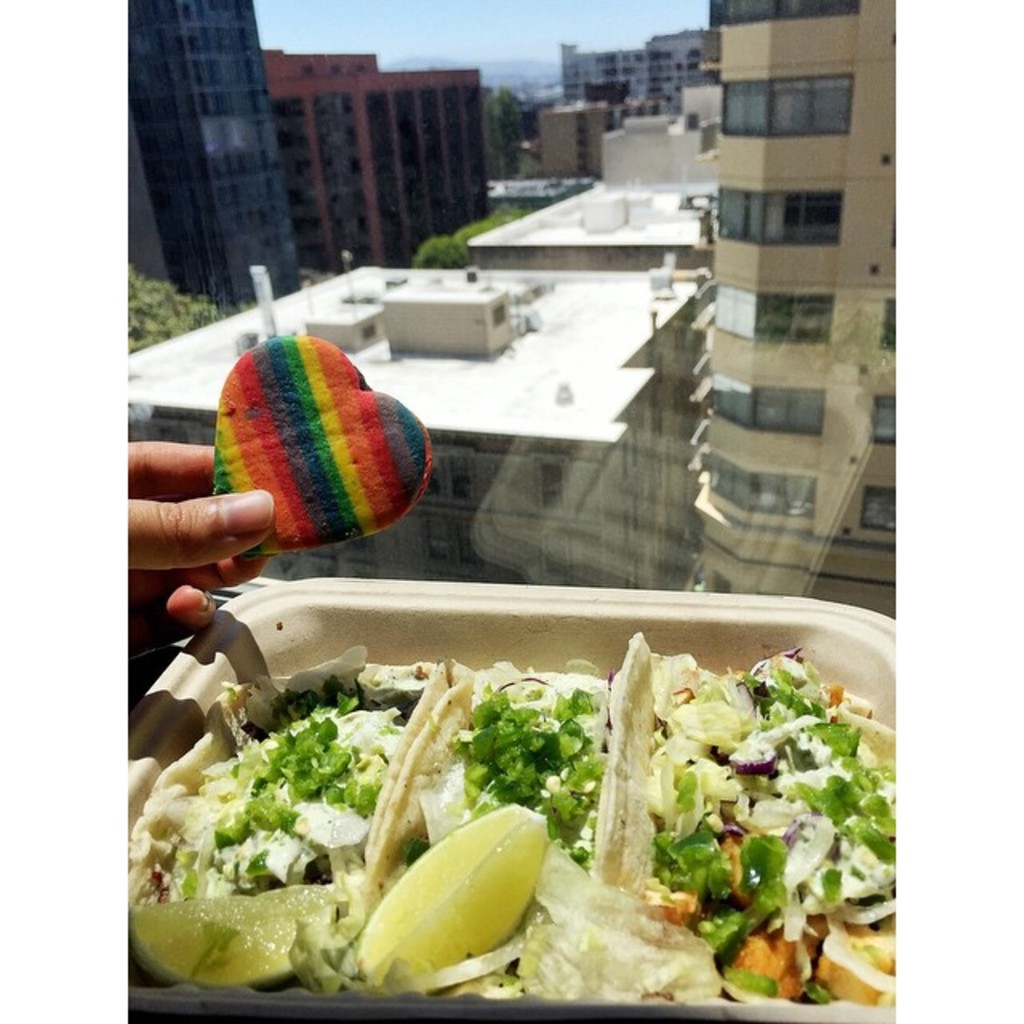taco: (594, 629, 926, 1008), (109, 670, 453, 994), (366, 661, 611, 1013)
